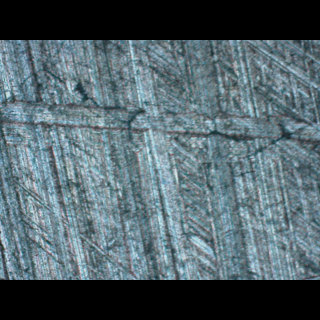d: (0, 66, 319, 148), (0, 173, 140, 279)
